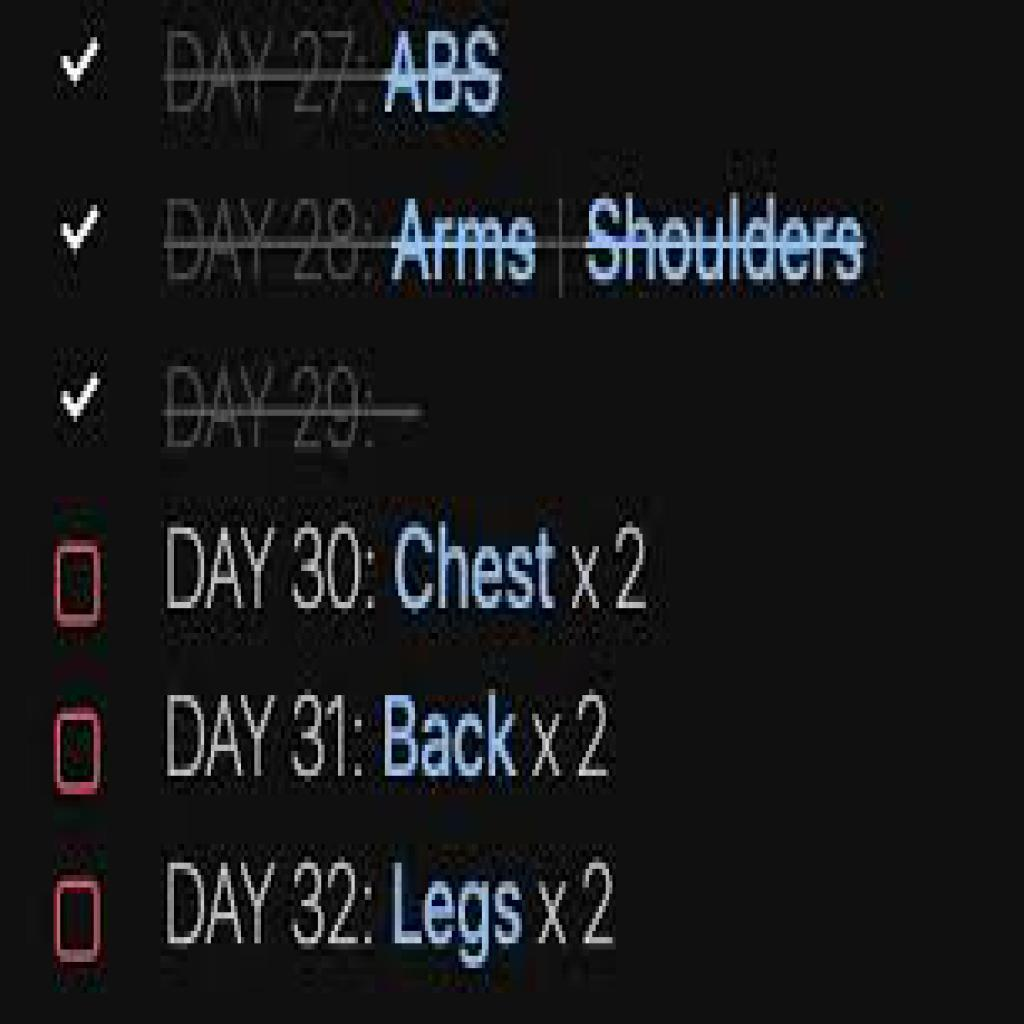checkbox: (57, 546, 103, 626), (57, 885, 102, 961), (62, 714, 101, 794)
icon: (52, 204, 101, 257), (55, 38, 98, 92), (59, 372, 100, 422)
